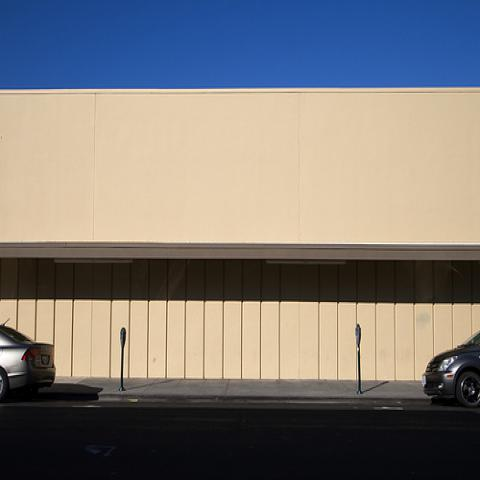car: (0, 318, 56, 405), (421, 330, 479, 408)
